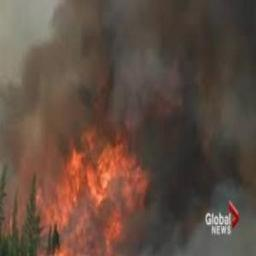Heavy smoke: (27, 3, 255, 134), (164, 116, 256, 254)
Medium fire: (9, 133, 161, 256)
